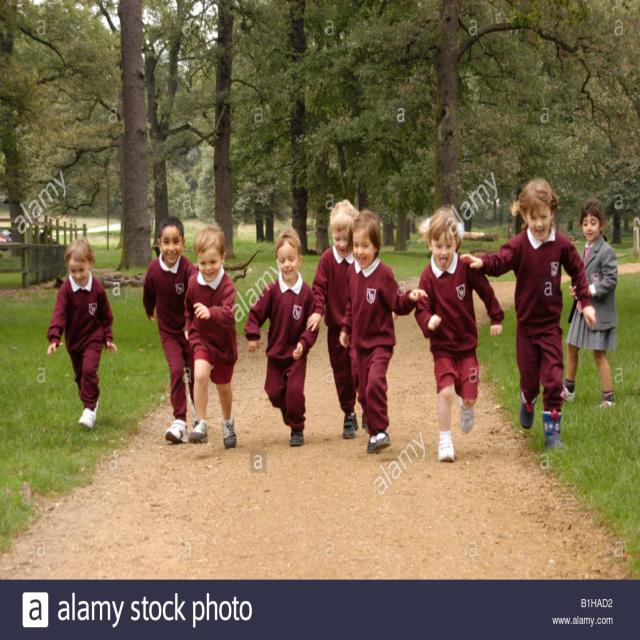body: (458, 176, 598, 457), (412, 203, 506, 462), (305, 198, 399, 439), (338, 206, 428, 454), (243, 222, 320, 448), (44, 235, 118, 430), (142, 215, 200, 444), (182, 221, 239, 449), (560, 198, 618, 408)
